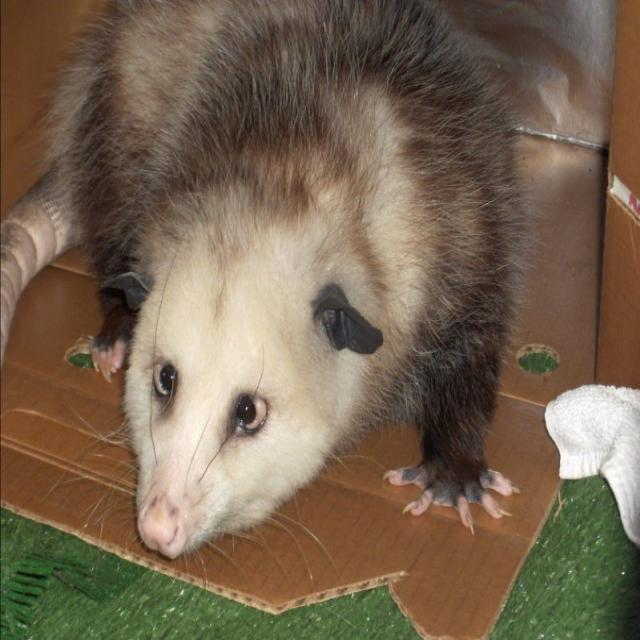Possum: (2, 0, 526, 567)
